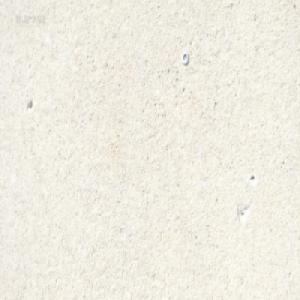Washer: (181, 50, 189, 64)
